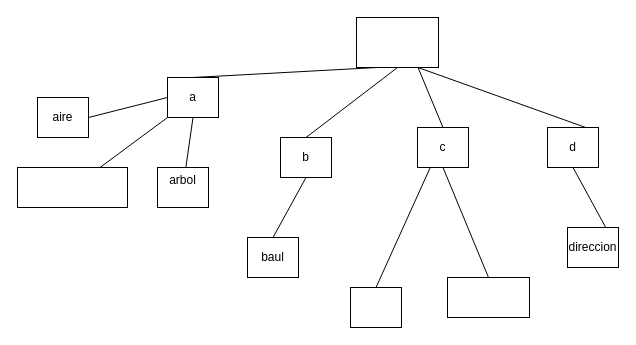
Image size: 636x345. Some labels were removed from this diagram. Each missing label, with the centre of its shape:
"aceleracion" belongs at point (72, 187).
"carro" belongs at point (376, 307).
"conduccion" belongs at point (488, 297).
"diccionario" belongs at point (397, 42).
